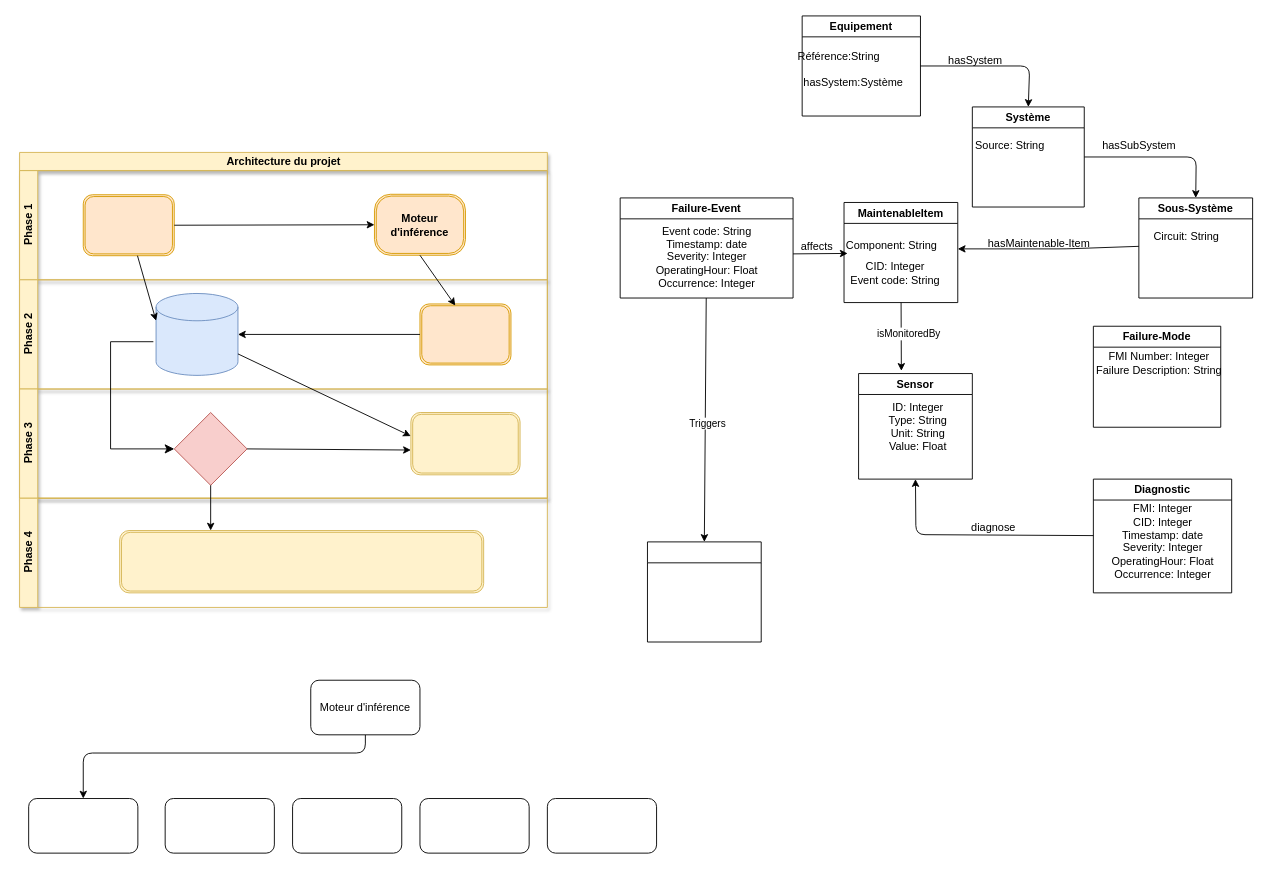
The diagram is 1269 pixels wide and 869 high, and some of its shapes have lost their labels. Each missing label, with the centre of its shape:
Base de Connaissance: point 196,334
Best Prediction: point 210,448
Calculer RUL: point 465,334
Interface Humain Machine: point 465,443
Maintenance Action: point 704,591
Ontology: point 128,225
Optimisation de l’affectation des ressources de maintenance: point 301,561
